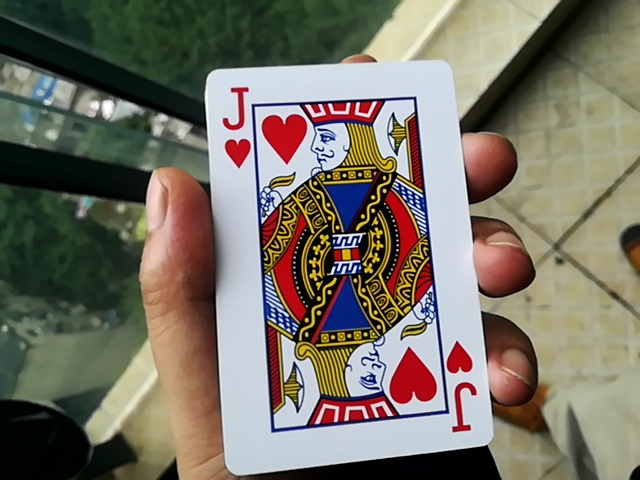hx j: (190, 45, 501, 465)
